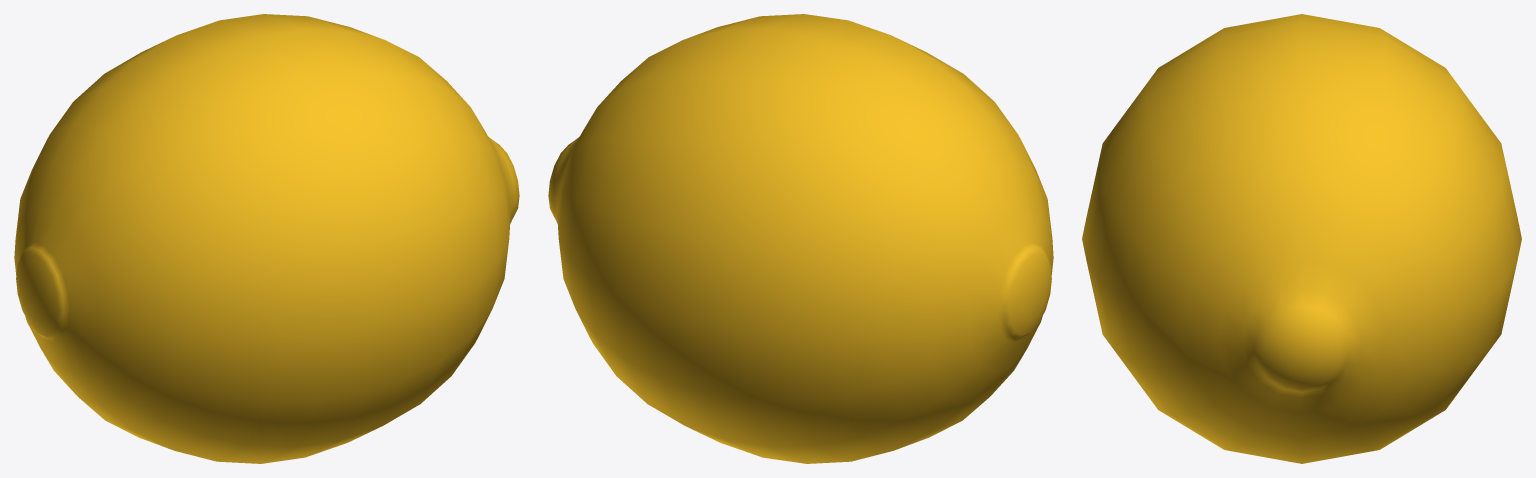
Rendered from Lemon.fbx.
3 views of the same model, side by side, from view 1: azimuth 30°, elevation 25°; view 2: azimuth 150°, elevation 25°; view 3: azimuth 270°, elevation 25° (orthographic).
Parts seen in each view (by area): view 1: Lemon; view 2: Lemon; view 3: Lemon.
Part boxes in pixels (box(x1,y1,x2,y2)): Lemon: box(14, 14, 519, 463); Lemon: box(548, 14, 1053, 463); Lemon: box(1082, 14, 1521, 463).
Bounding box in the file's own units: 0.6273 × 0.5097 × 0.5097.
Materials: 1 (1 with a texture image).
